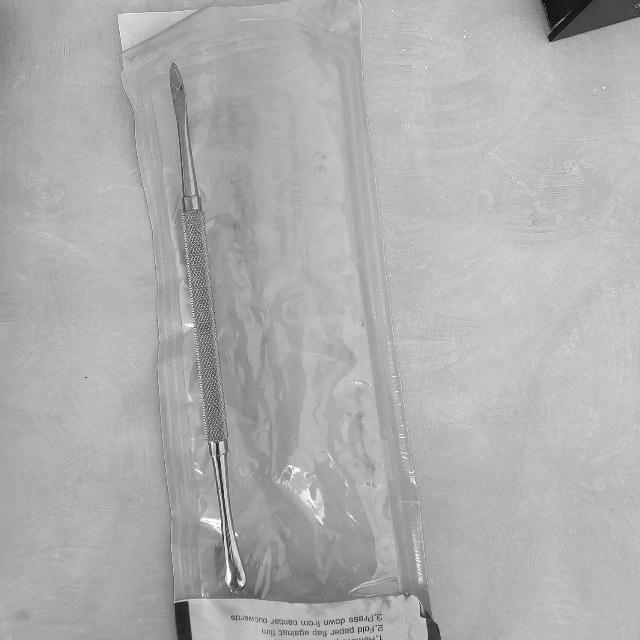elevador: (171, 62, 248, 591)
